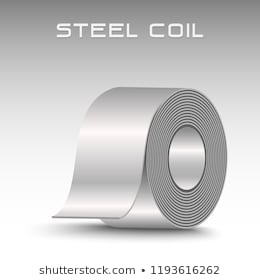steel-coil: (43, 65, 240, 236)
